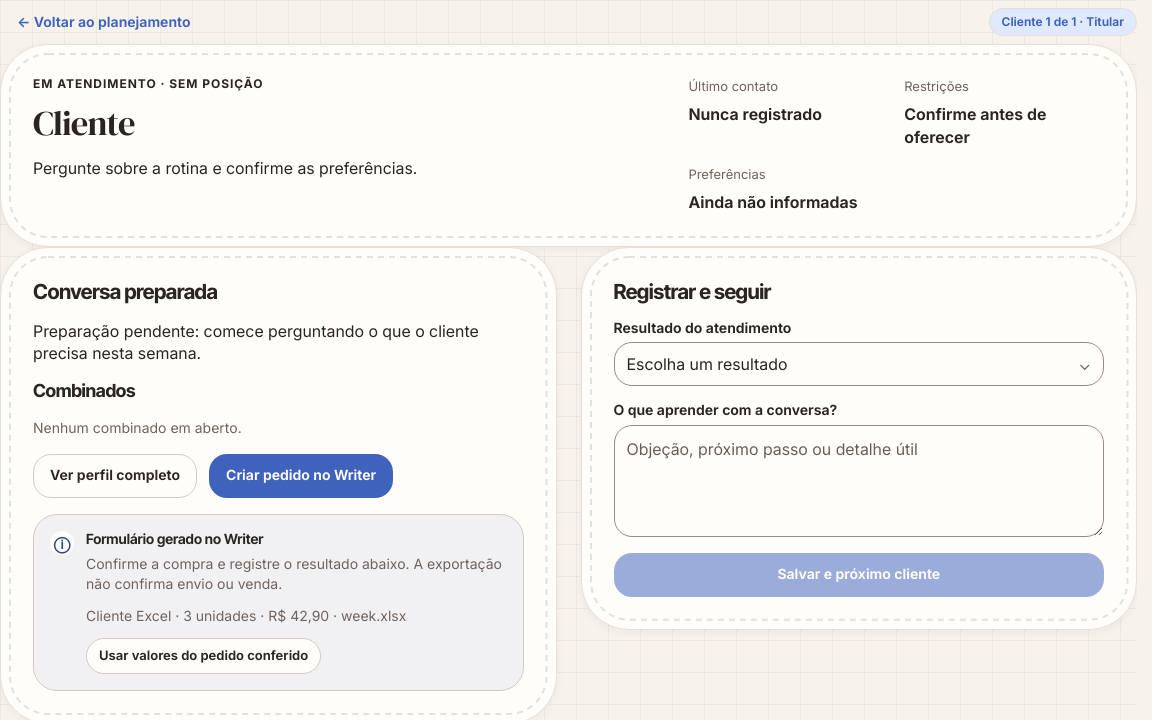
it: returns workbook totals to Planner only after an explicit action, without recording a sale
Expected: the field labelled "Valor da compra (R$)" is not shown
Click the button "Usar valores do pedido conferido" at (204, 656), box [86,638,321,674]
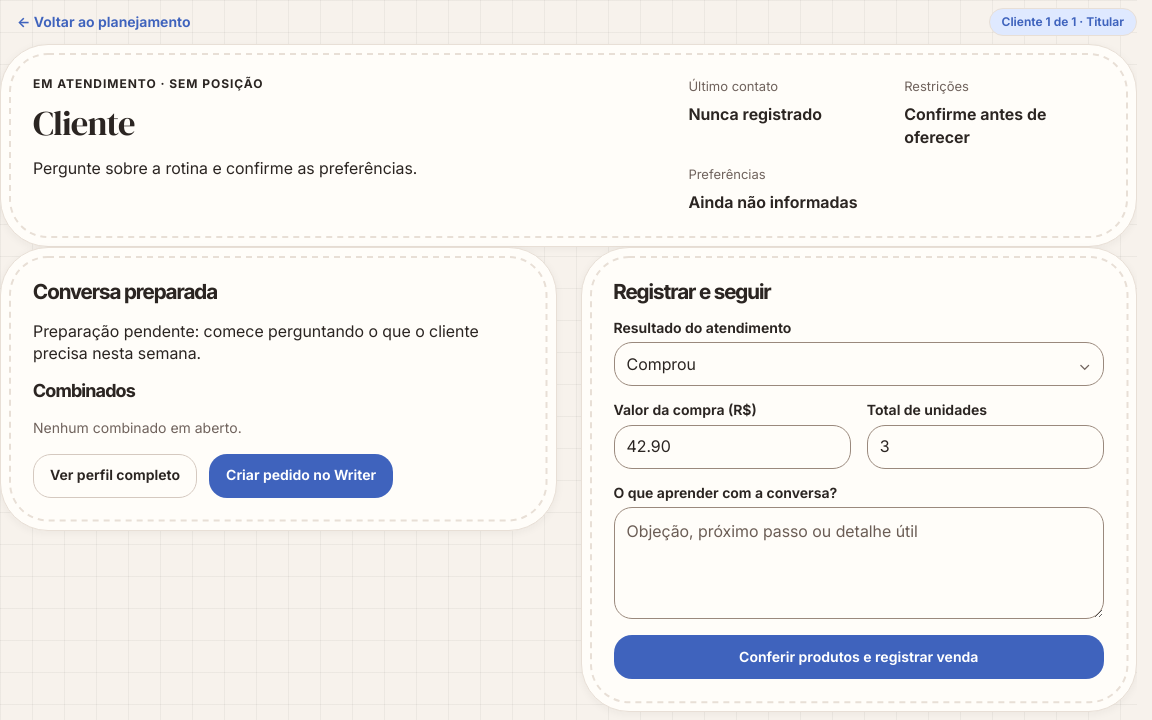
Expected: the number field labelled "Valor da compra (R$)" holds "42.90", [614,425,851,469]
Expected: the number field labelled "Total de unidades" holds "3", [867,425,1104,469]
Expected: the button "Usar valores do pedido conferido" is gone
